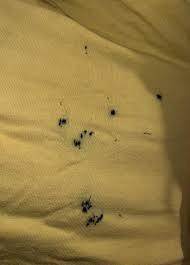ink: (73, 131, 94, 149), (87, 216, 104, 227), (79, 199, 91, 212), (58, 118, 66, 126), (155, 92, 162, 100), (110, 109, 116, 116)
